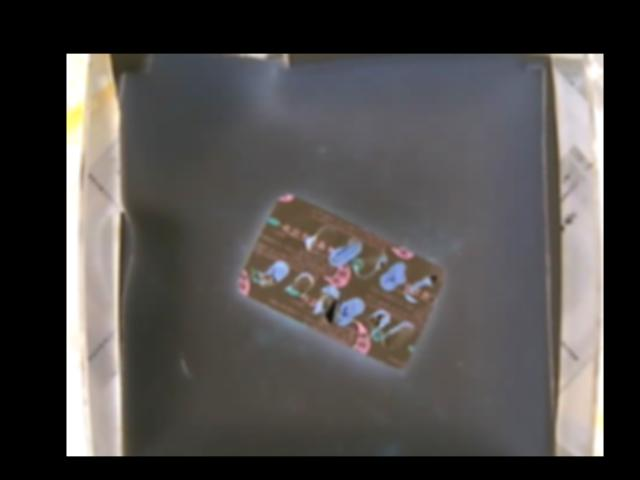Medicine: (236, 190, 443, 367)
